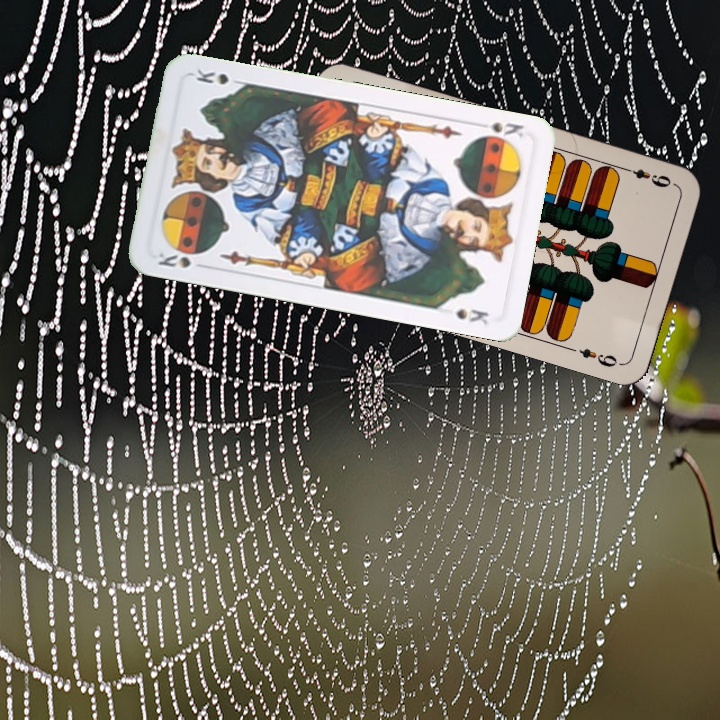E9: (619, 163, 677, 191)
SK: (471, 118, 526, 146), (154, 248, 211, 271)
